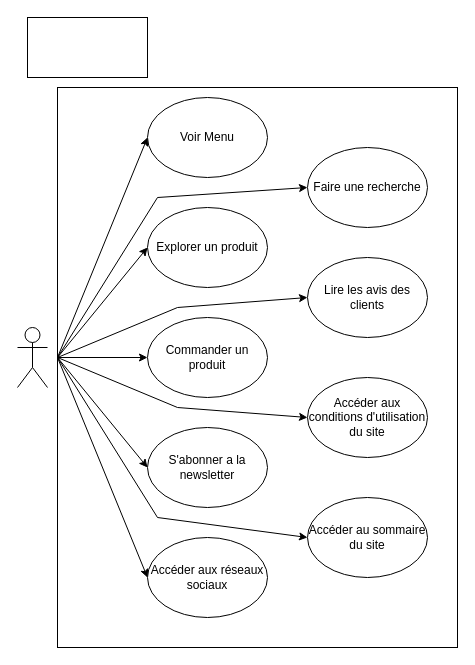
The diagram is 475 pixels wide and 665 high, and some of its shapes have lost their labels. Here are the shapes that lost their labels. From the top down, the centre of each, then its label:
At (x=87, y=47): "Coffee Site".
At (x=32, y=357): "Actor".
